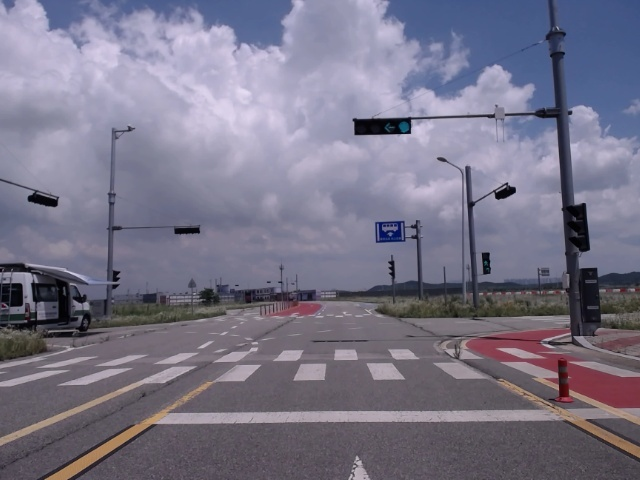all_green_4: (352, 123, 414, 138)
